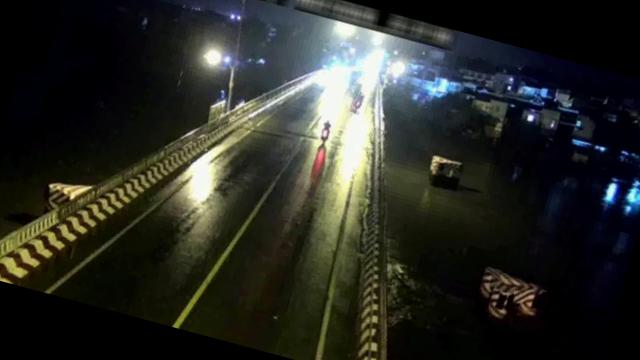Bike: (318, 118, 332, 144), (350, 90, 364, 116)
